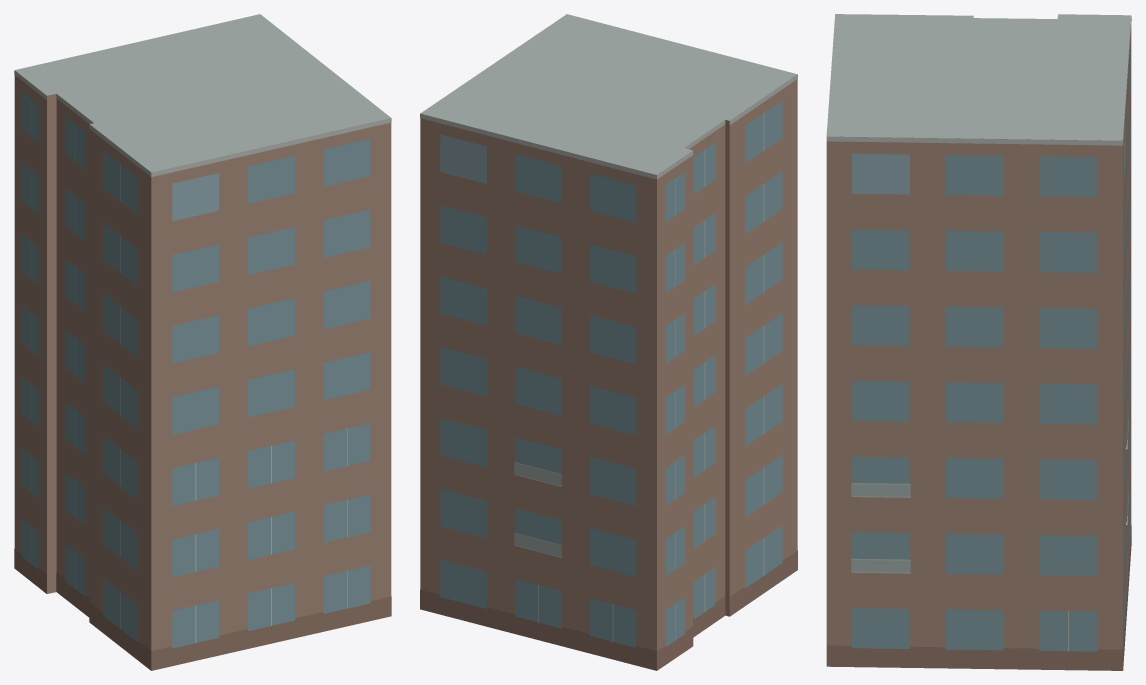
File: survey-upis-32572641.glb
3 views of the same model, side by side, from view 1: azimuth 30°, elevation 25°; view 2: azimuth 150°, elevation 25°; view 3: azimuth 270°, elevation 25° (orthographic). The views are drawn at different scales.
Parts seen in each view (by area): view 1: survey-upis-32572641.tmp; view 2: survey-upis-32572641.tmp; view 3: survey-upis-32572641.tmp.
Boxes of the visible parts, x1,y1,x2,y2 form: survey-upis-32572641.tmp: [14, 14, 391, 670]; survey-upis-32572641.tmp: [420, 14, 797, 670]; survey-upis-32572641.tmp: [826, 14, 1131, 670].
Size of the model in its own units: 13.68 by 26.65 by 13.9.
